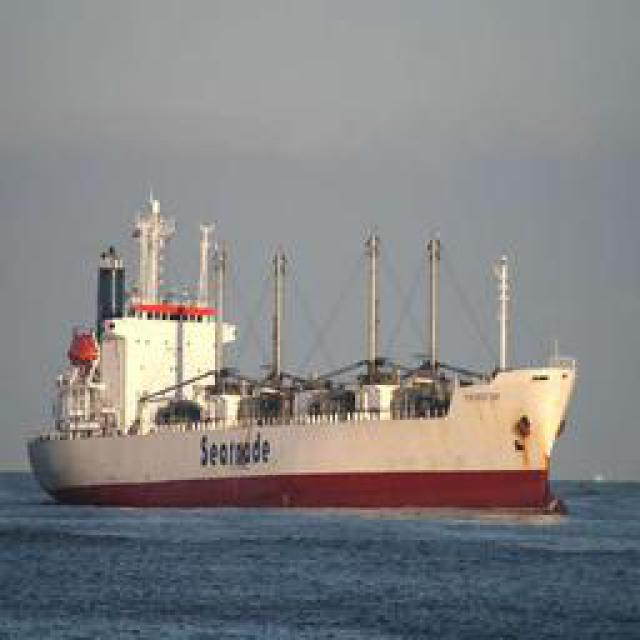Ship: (21, 212, 591, 525)
